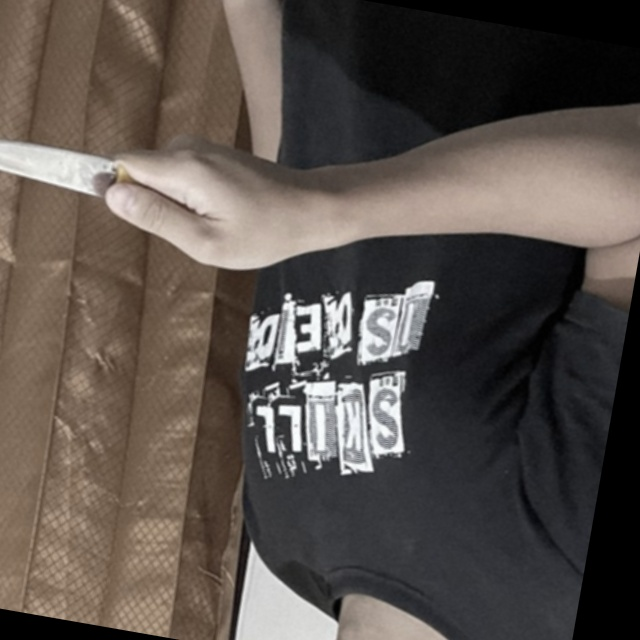Sharp-Object: (0, 128, 212, 221)
